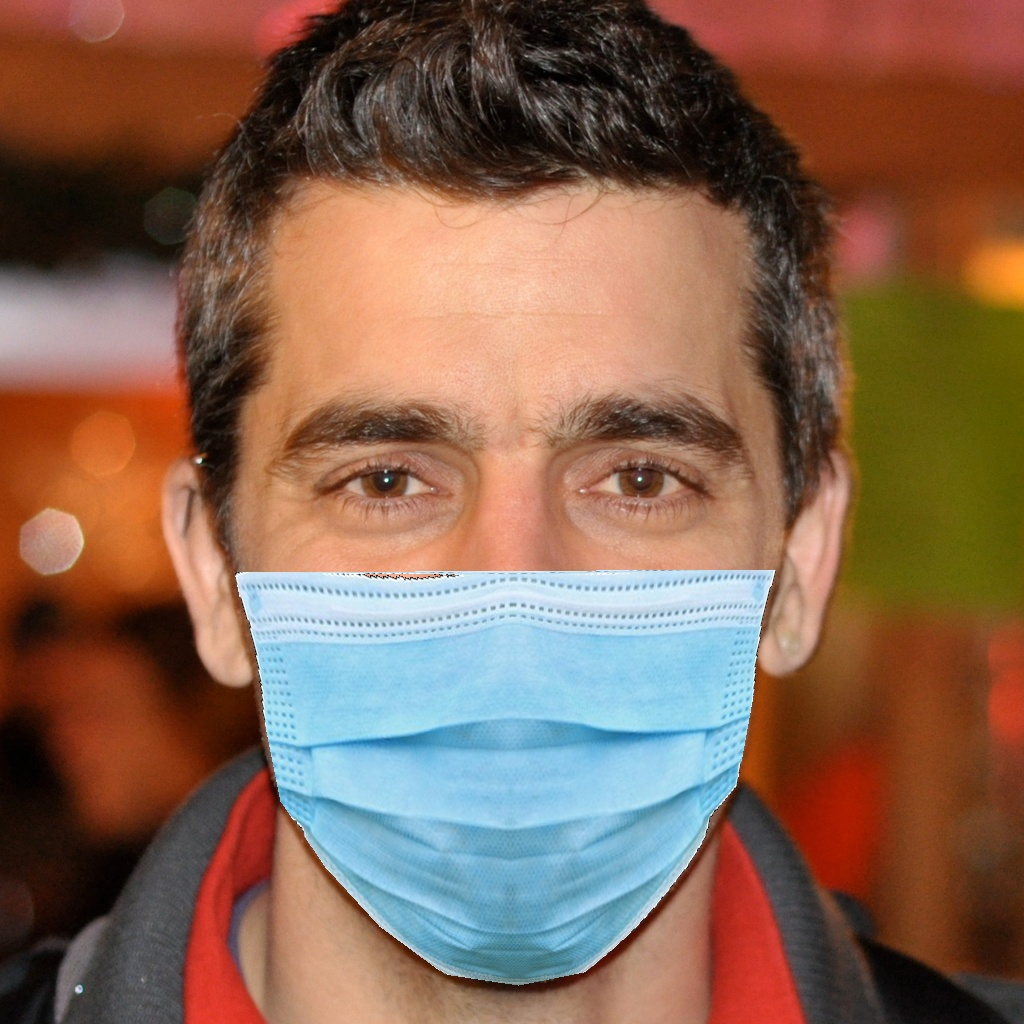Mask: (230, 347, 785, 988)
